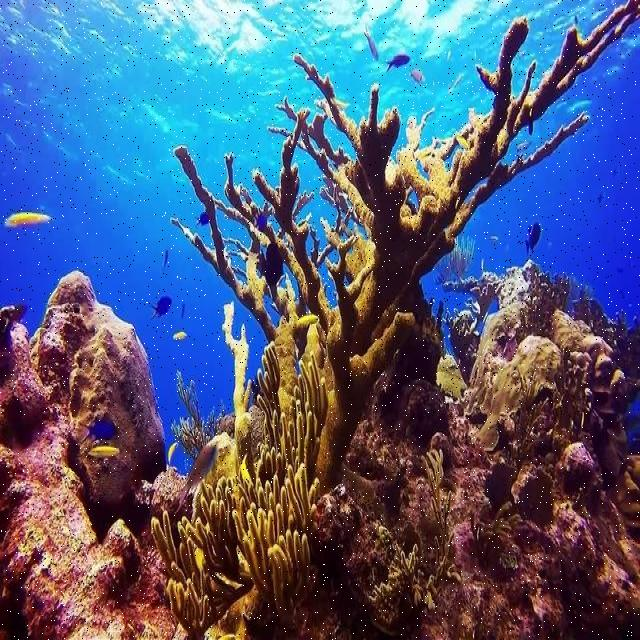fish: (79, 420, 117, 444), (5, 213, 53, 227), (386, 55, 410, 74), (152, 297, 171, 319), (87, 445, 120, 457)
reefs: (169, 1, 639, 493), (150, 343, 329, 639)
sea-floor: (0, 269, 175, 639)
